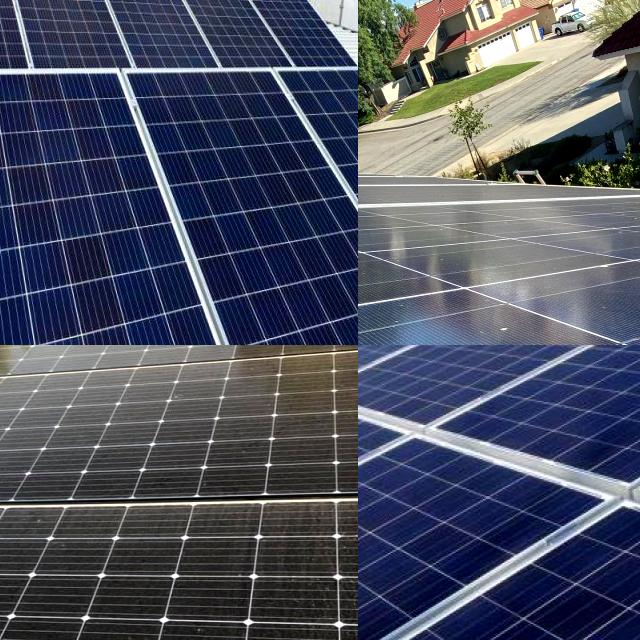crack: (358, 345, 640, 640), (358, 416, 614, 640), (0, 78, 208, 345), (137, 90, 358, 317), (0, 382, 358, 512), (0, 527, 310, 640), (0, 345, 358, 441), (273, 58, 358, 345), (162, 0, 303, 88), (2, 0, 141, 88), (235, 0, 358, 91), (90, 0, 221, 81), (0, 0, 66, 84), (19, 0, 109, 24), (0, 0, 43, 32), (0, 0, 39, 31)
dust: (399, 287, 640, 345)
